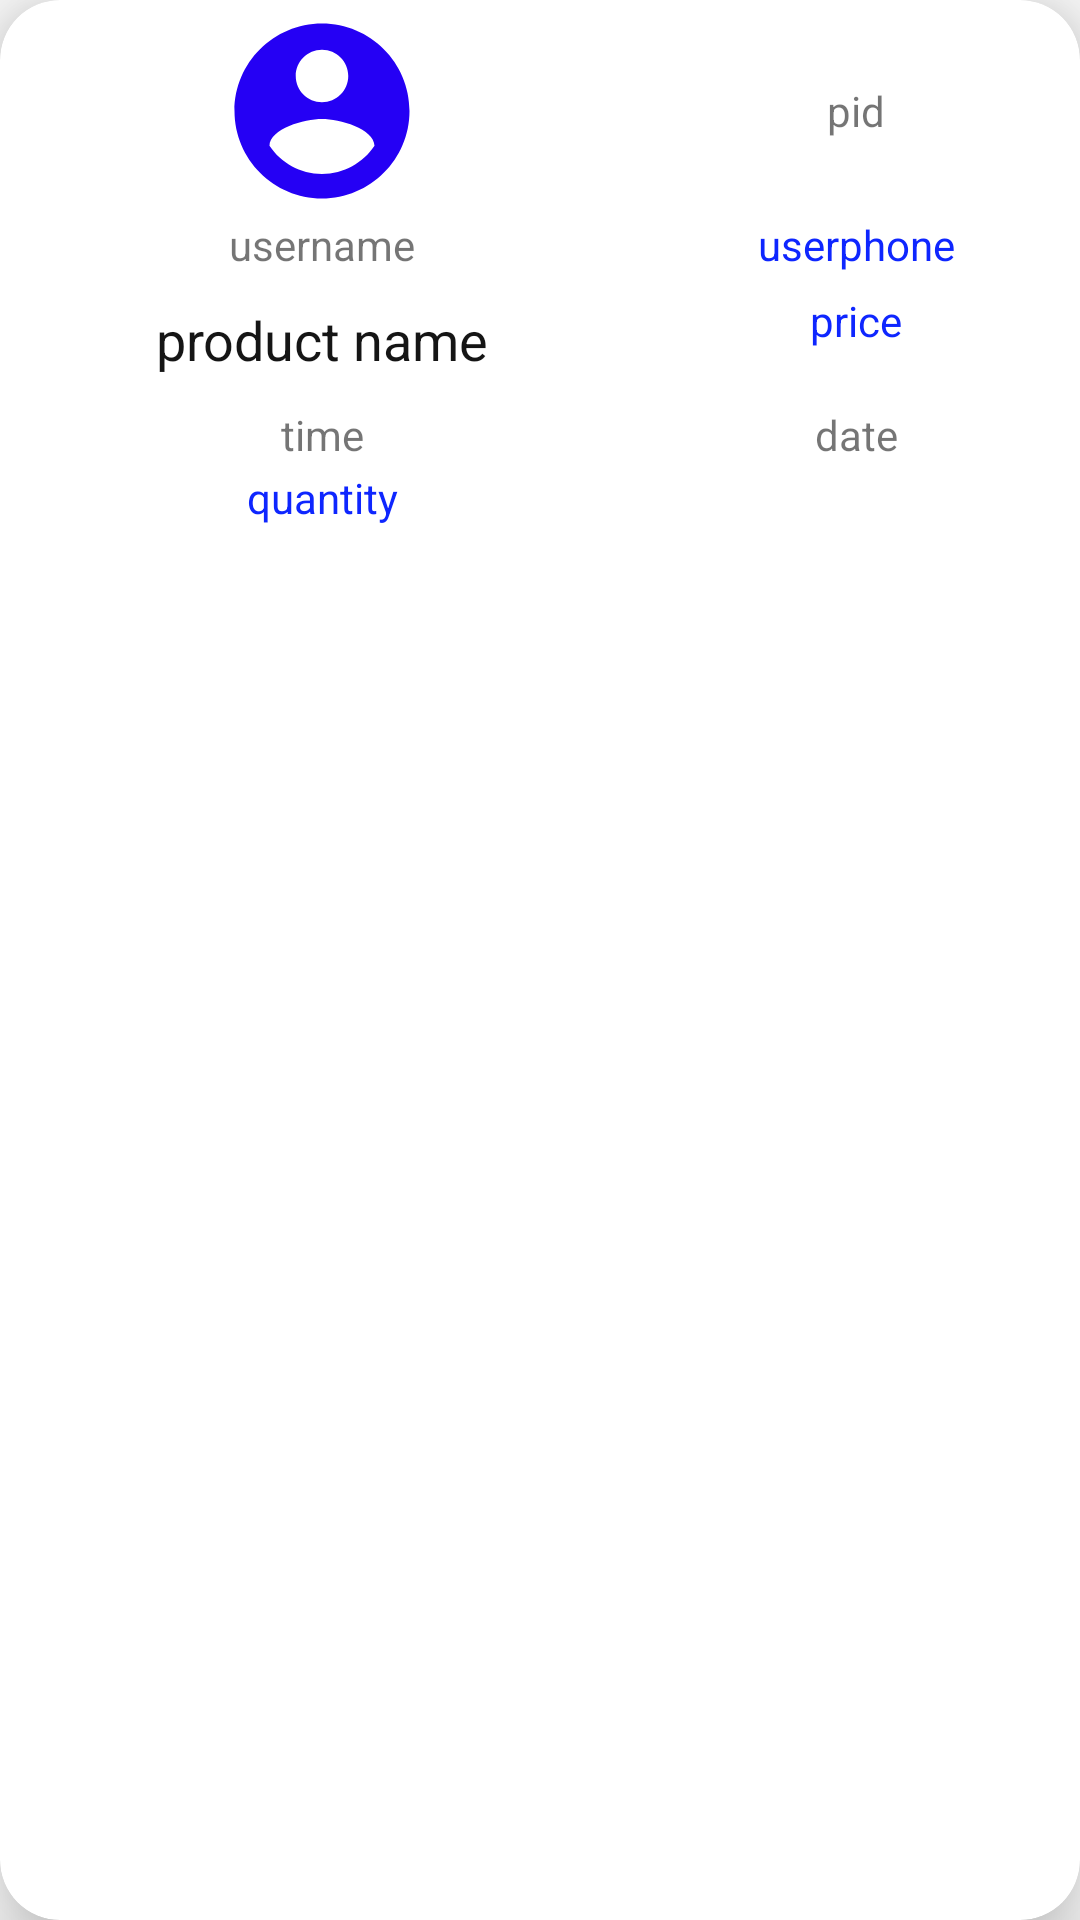

Locate icon controls on the screen. Image size 1080w x 1920h, boxes as (x1, y1, x2, y2).
account circle: (234, 23, 410, 199)
